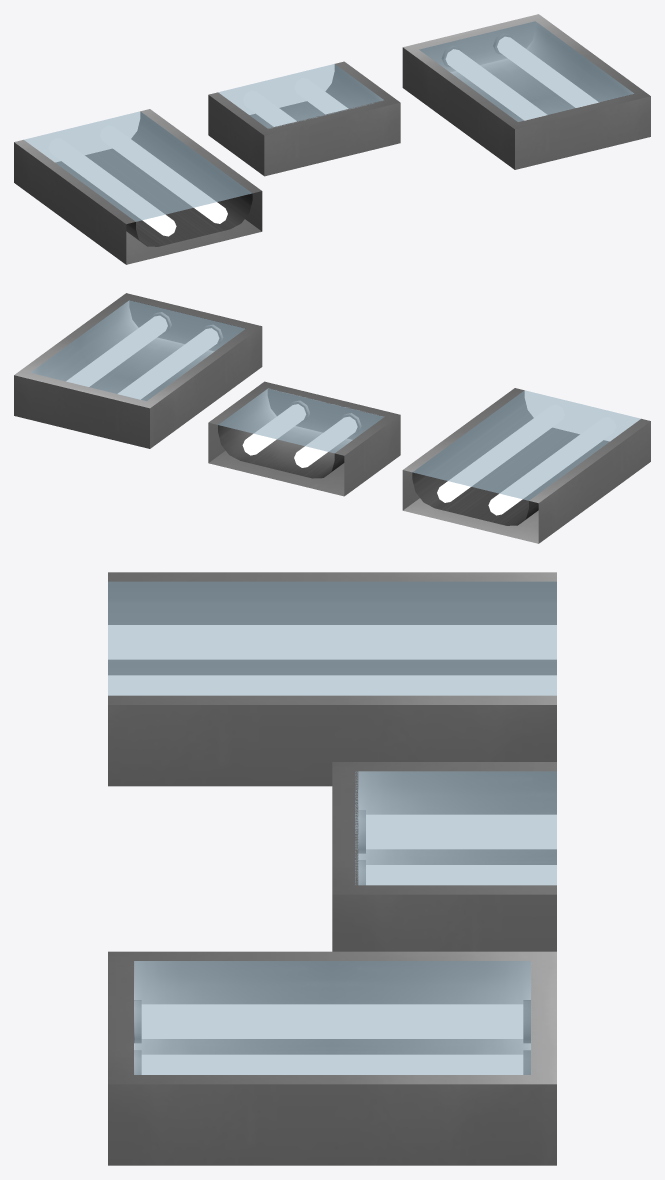
File: LightAtlas.glb
The picture shows the model from 3 angles, top to bottom: view 1: azimuth 30°, elevation 25°; view 2: azimuth 150°, elevation 25°; view 3: azimuth 270°, elevation 25°; orthographic projection. The views are drawn at different scales.
Visible parts, largest first — view 1: Lights Lights Single, Lights Middle, Lights End; view 2: Lights Lights Single, Lights Middle, Lights End; view 3: Lights Lights Single, Lights Middle, Lights End.
Boxes of the visible parts, x1,y1,x2,y2 form: Lights Lights Single: (402,14,650,169); Lights Middle: (14,109,262,264); Lights End: (208,61,400,176); Lights Lights Single: (14,293,262,448); Lights Middle: (402,388,650,543); Lights End: (208,381,400,496); Lights Lights Single: (108,951,556,1165); Lights Middle: (108,572,556,786); Lights End: (332,762,556,951).
Size of the model in its own units: 5.4 by 0.4 by 2.
Materials: 4 (3 with a texture image).
